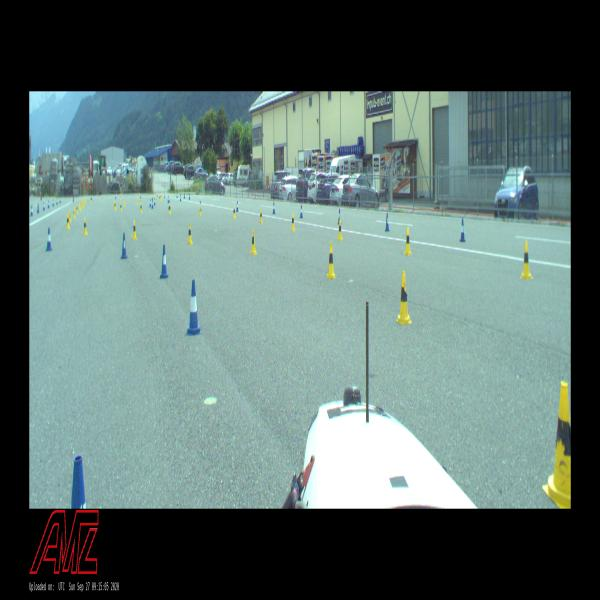blue_cone: (186, 279, 202, 335), (71, 454, 86, 508), (160, 245, 168, 278), (121, 233, 128, 259), (46, 227, 52, 251), (460, 218, 466, 242), (384, 213, 390, 232), (337, 209, 342, 225), (299, 205, 303, 218), (272, 202, 276, 215), (236, 201, 239, 212), (149, 198, 152, 208), (168, 200, 171, 210), (47, 200, 50, 208), (52, 198, 55, 206), (31, 205, 33, 216), (37, 203, 39, 214), (200, 201, 202, 211), (43, 202, 45, 210), (154, 197, 156, 205), (176, 192, 178, 198), (152, 201, 153, 209), (60, 196, 61, 204), (180, 194, 181, 202), (168, 196, 169, 204), (57, 198, 58, 205), (73, 195, 74, 202), (189, 193, 190, 200), (115, 193, 116, 199), (184, 193, 185, 199), (164, 192, 165, 198)
yellow_cone: (542, 381, 571, 509), (396, 270, 412, 325), (520, 240, 534, 280), (326, 242, 335, 278), (404, 227, 412, 255), (250, 229, 257, 255), (337, 219, 344, 240), (187, 223, 193, 245), (290, 212, 296, 231), (132, 219, 137, 239), (83, 216, 88, 235), (259, 208, 263, 223), (66, 214, 70, 228), (68, 209, 72, 222), (233, 205, 236, 218), (199, 204, 202, 217), (140, 202, 143, 212), (73, 206, 75, 218), (114, 200, 116, 210), (169, 203, 171, 213), (76, 204, 78, 214), (120, 202, 122, 211), (81, 200, 83, 209), (79, 202, 81, 210), (159, 193, 161, 201), (160, 193, 162, 200), (82, 199, 84, 206), (90, 196, 92, 202), (124, 198, 125, 206), (101, 194, 102, 201), (157, 194, 158, 200), (137, 198, 138, 204), (84, 199, 85, 205), (120, 194, 121, 199), (86, 198, 86, 204)
